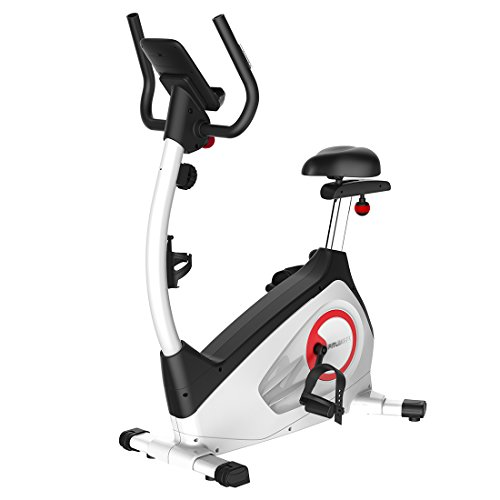gym_bike: (103, 15, 430, 493)
